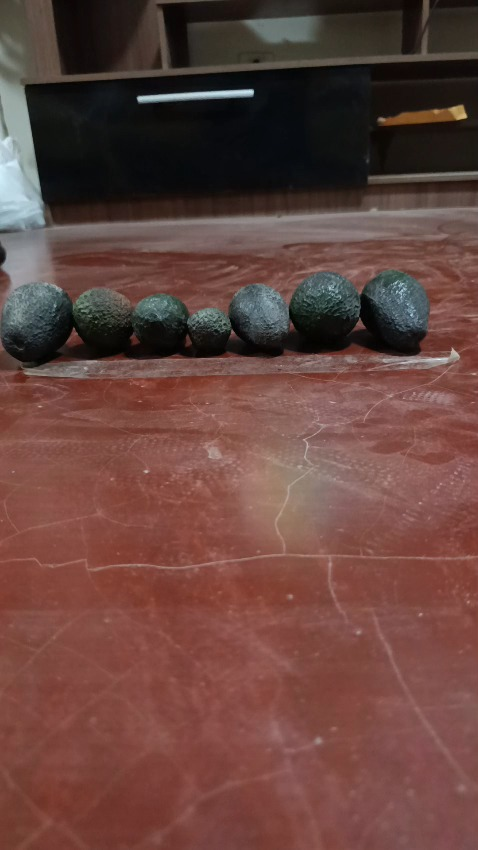Primera: (0, 282, 74, 362), (360, 268, 430, 351), (288, 270, 362, 345)
Segunda: (71, 286, 135, 354), (228, 283, 290, 349), (130, 292, 190, 353)
Tercera: (185, 307, 231, 357)
